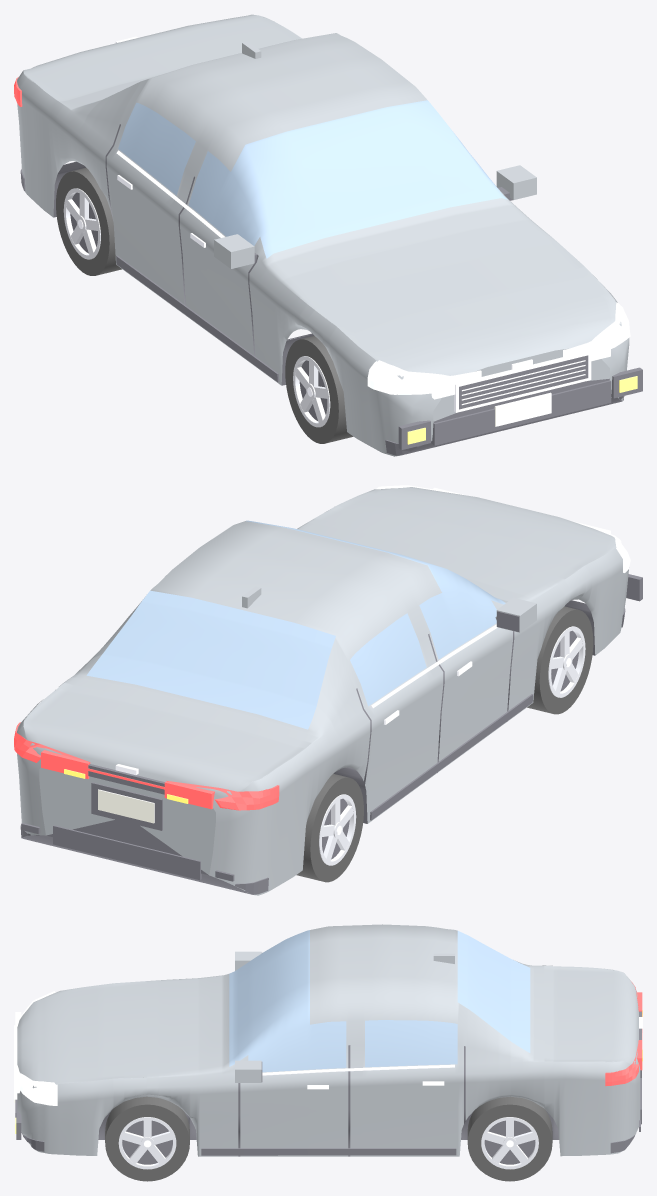
File: cerato.glb
3 views of the same model, one above another, from view 1: azimuth 30°, elevation 25°; view 2: azimuth 150°, elevation 25°; view 3: azimuth 270°, elevation 25° (orthographic). The views are drawn at different scales.
Parts seen in each view (by area): view 1: steel-grey-paint, tinted-glass, black-trim, tyre, alloy-wheel, chrome, headlamp, number-plate, drl; view 2: steel-grey-paint, tinted-glass, black-trim, tyre, tail-lamp, alloy-wheel, number-plate, chrome; view 3: steel-grey-paint, tinted-glass, tyre, black-trim, alloy-wheel, chrome, headlamp, tail-lamp.
Boxes of the visible parts, left/top/right/bottom form: steel-grey-paint: left=17, top=14, right=629, bottom=456; tinted-glass: left=118, top=100, right=507, bottom=258; black-trim: left=20, top=124, right=642, bottom=455; tyre: left=56, top=167, right=353, bottom=443; alloy-wheel: left=63, top=188, right=330, bottom=427; chrome: left=78, top=36, right=591, bottom=412; headlamp: left=367, top=303, right=630, bottom=399; number-plate: left=494, top=392, right=551, bottom=426; drl: left=376, top=302, right=622, bottom=378; steel-grey-paint: left=17, top=487, right=628, bottom=895; tinted-glass: left=86, top=520, right=505, bottom=729; black-trim: left=20, top=574, right=642, bottom=894; tyre: left=296, top=606, right=593, bottom=882; tail-lamp: left=14, top=722, right=279, bottom=810; alloy-wheel: left=319, top=626, right=585, bottom=865; number-plate: left=98, top=789, right=154, bottom=823; chrome: left=115, top=624, right=571, bottom=834; steel-grey-paint: left=17, top=924, right=640, bottom=1156; tinted-glass: left=229, top=930, right=530, bottom=1072; tyre: left=105, top=1096, right=552, bottom=1181; black-trim: left=15, top=1011, right=641, bottom=1164; alloy-wheel: left=118, top=1117, right=538, bottom=1169; chrome: left=14, top=1017, right=642, bottom=1147; headlamp: left=15, top=992, right=57, bottom=1105; tail-lamp: left=605, top=981, right=642, bottom=1086.
Size of the model in its own units: 2.08 by 1.46 by 4.68.
